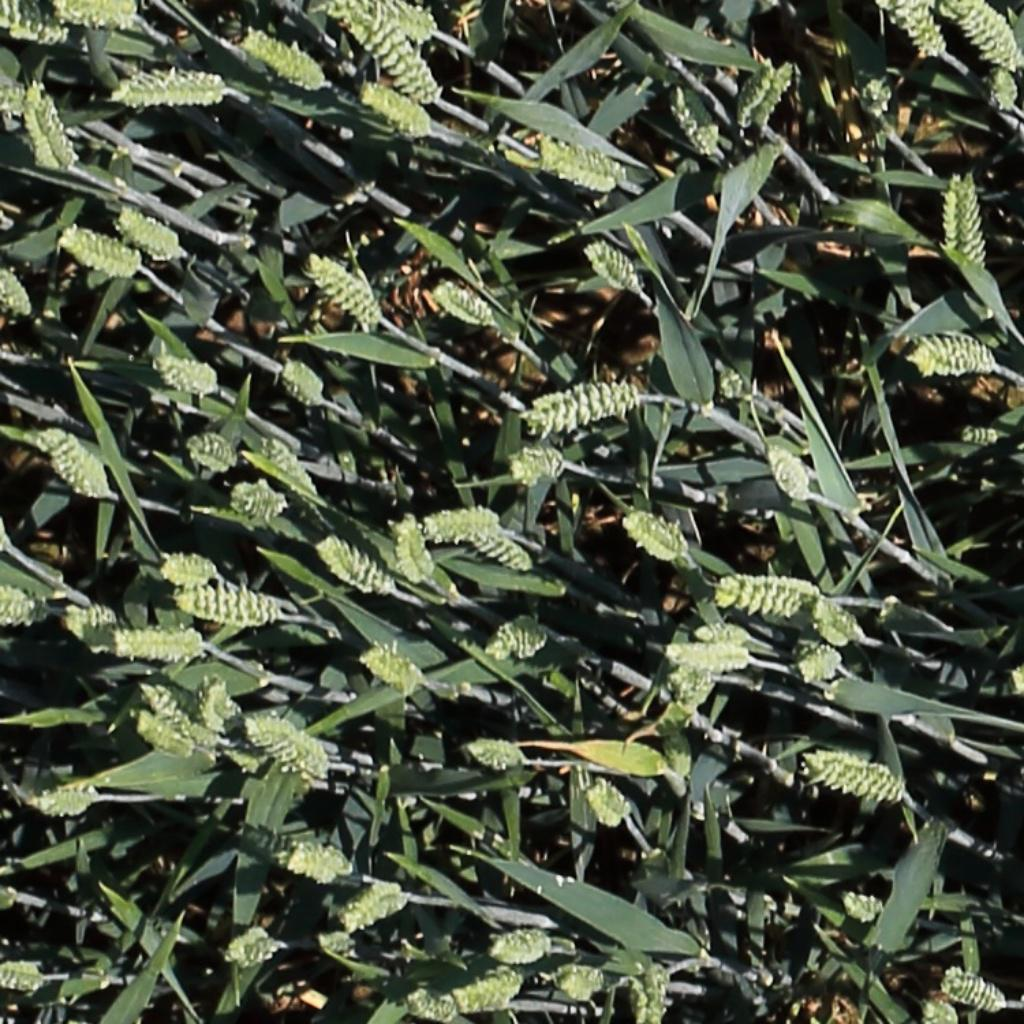0-0: (337, 6, 438, 102), (238, 20, 333, 98), (520, 377, 638, 439), (796, 747, 897, 813), (114, 61, 227, 118), (20, 80, 86, 177), (166, 578, 283, 632), (896, 326, 1000, 386), (717, 566, 824, 624), (532, 135, 628, 197), (930, 163, 985, 271), (55, 218, 141, 287), (305, 252, 382, 327), (36, 425, 109, 501), (734, 57, 801, 133), (872, 0, 945, 68), (249, 707, 330, 768), (265, 835, 354, 890), (146, 345, 227, 404), (318, 536, 395, 598), (545, 947, 615, 1015), (256, 431, 320, 505), (951, 0, 1019, 69), (618, 509, 697, 568), (934, 956, 1013, 1015), (110, 621, 211, 667), (426, 496, 505, 554), (674, 96, 730, 176), (339, 875, 412, 936), (353, 641, 426, 702), (143, 674, 212, 738), (216, 472, 285, 534), (59, 597, 124, 662), (116, 207, 190, 264), (483, 612, 560, 665), (25, 774, 106, 824), (196, 674, 251, 744), (0, 1, 73, 53), (497, 437, 567, 490), (616, 956, 670, 1024), (338, 1, 434, 39), (655, 661, 722, 715), (154, 545, 231, 591), (484, 921, 552, 973), (704, 349, 758, 414), (664, 640, 749, 681), (650, 720, 698, 792), (363, 81, 432, 131), (764, 441, 817, 506), (585, 238, 647, 293), (432, 279, 501, 327), (786, 638, 848, 691), (398, 970, 461, 1022), (464, 525, 536, 570), (852, 63, 904, 125), (458, 729, 525, 777), (677, 614, 757, 654), (224, 926, 289, 975), (446, 974, 529, 1012), (57, 2, 149, 34), (306, 919, 364, 969), (0, 946, 59, 995), (132, 712, 193, 759), (811, 596, 866, 647), (0, 72, 44, 135), (278, 356, 329, 408), (0, 582, 55, 629), (397, 512, 430, 588), (588, 776, 636, 826), (834, 881, 894, 921), (0, 252, 34, 319), (948, 421, 1006, 458), (584, 786, 628, 831), (988, 54, 1019, 116), (185, 436, 241, 469), (922, 991, 958, 1024)
